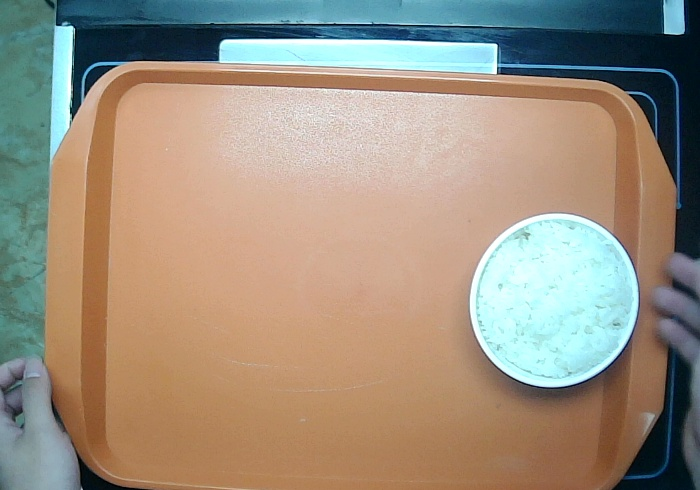HZYJPL-Fan_Wan: (467, 211, 641, 390)
